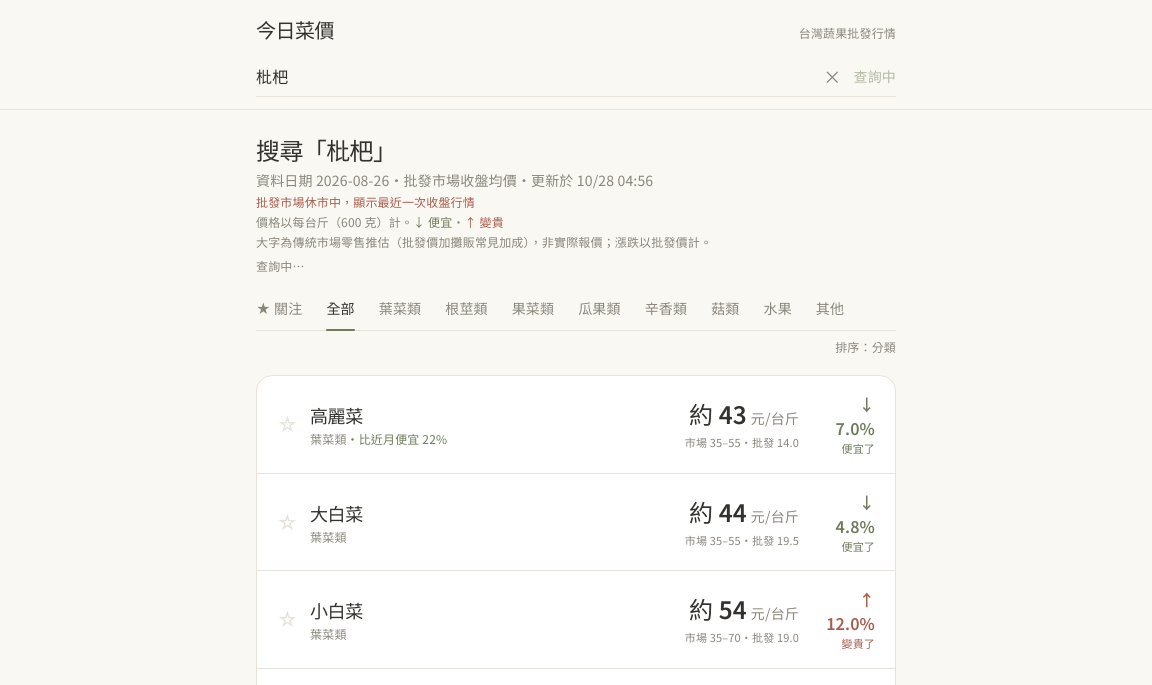
Test: App — a shared live-search result › survives a character typed and deleted while the link is in flight
Replace the text in the search field with placeholder "搜尋蔬果（例如：高麗菜、番茄）" with "枇杷x" at coordinates (534, 76), box [256,56,811,96]
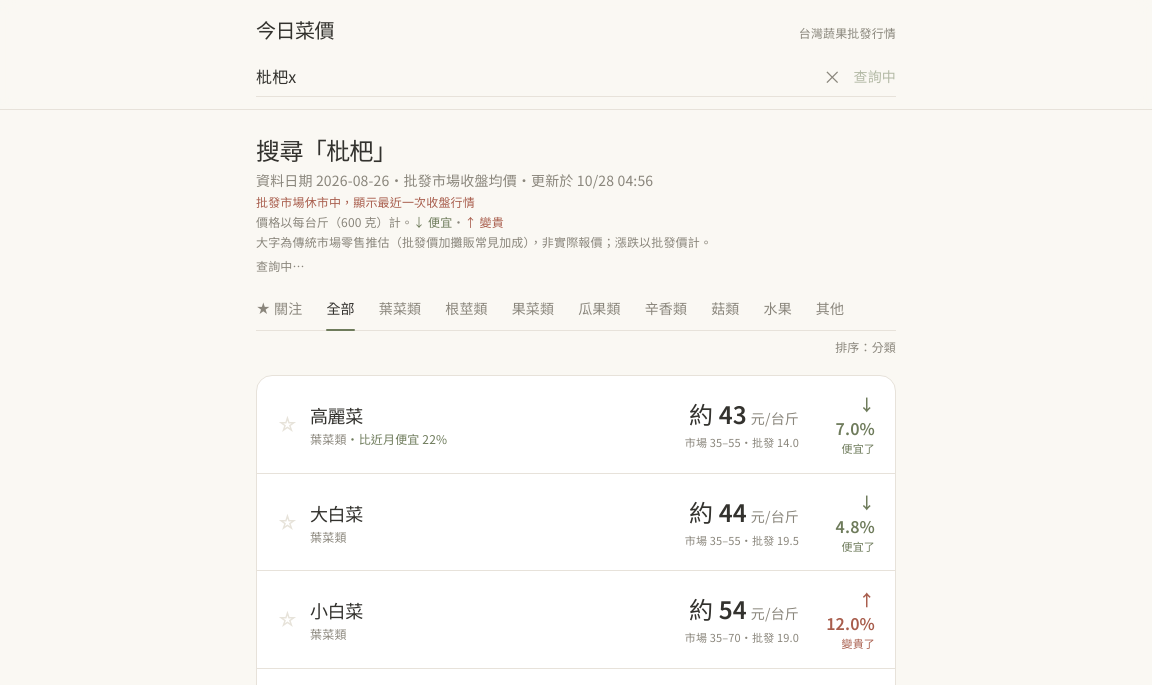
Replace the text in the search field with placeholder "搜尋蔬果（例如：高麗菜、番茄）" with "枇杷" at coordinates (534, 76), box [256,56,811,96]
Wait 600 ms
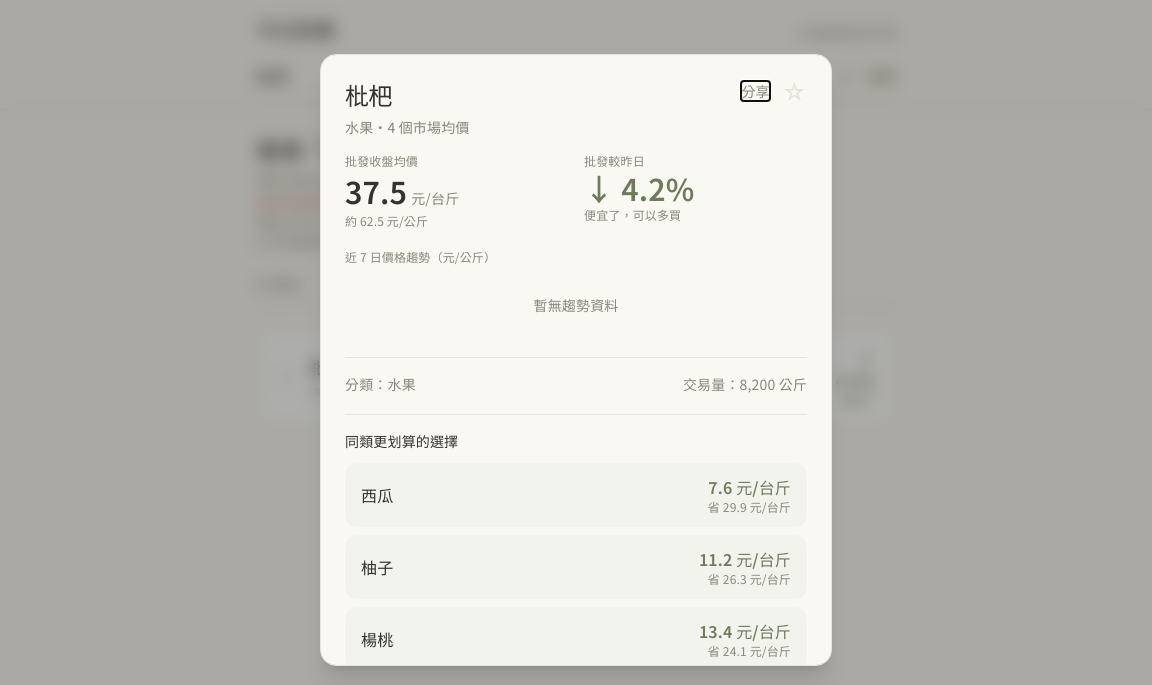
Now the dialog with test id "detail-drawer" is shown, box [320,54,832,666]
